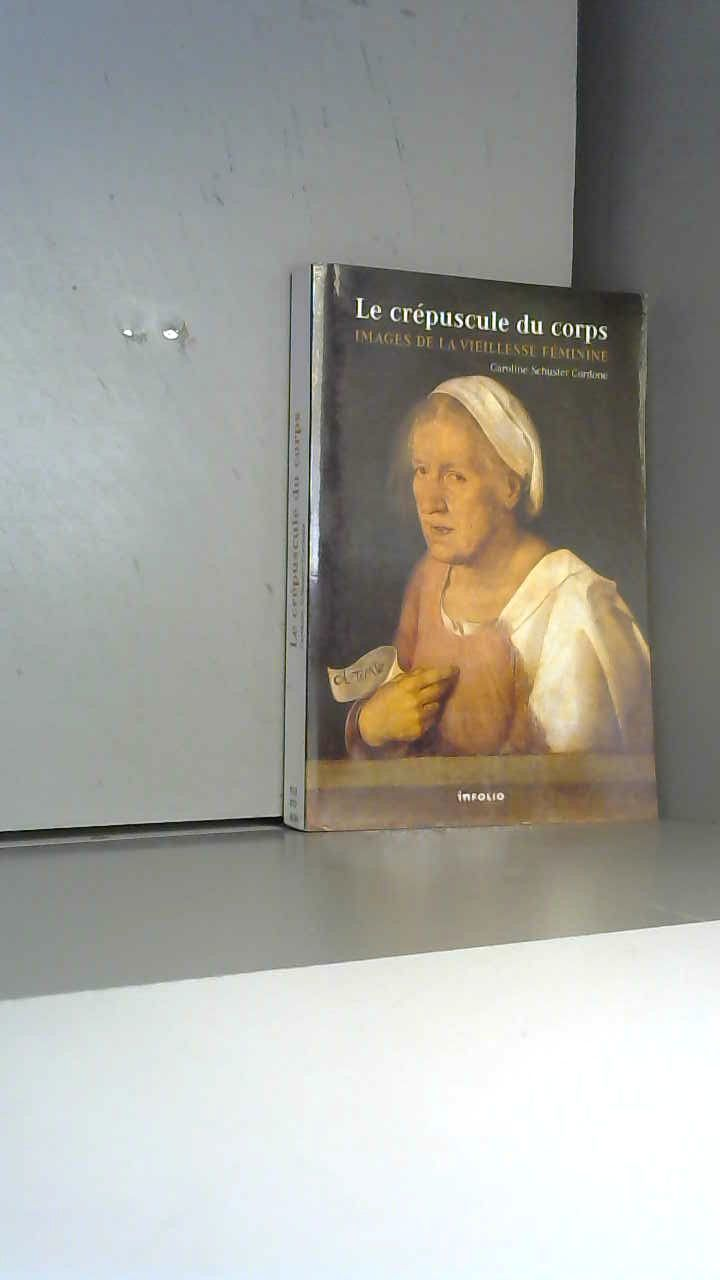book: (280, 230, 720, 935)
